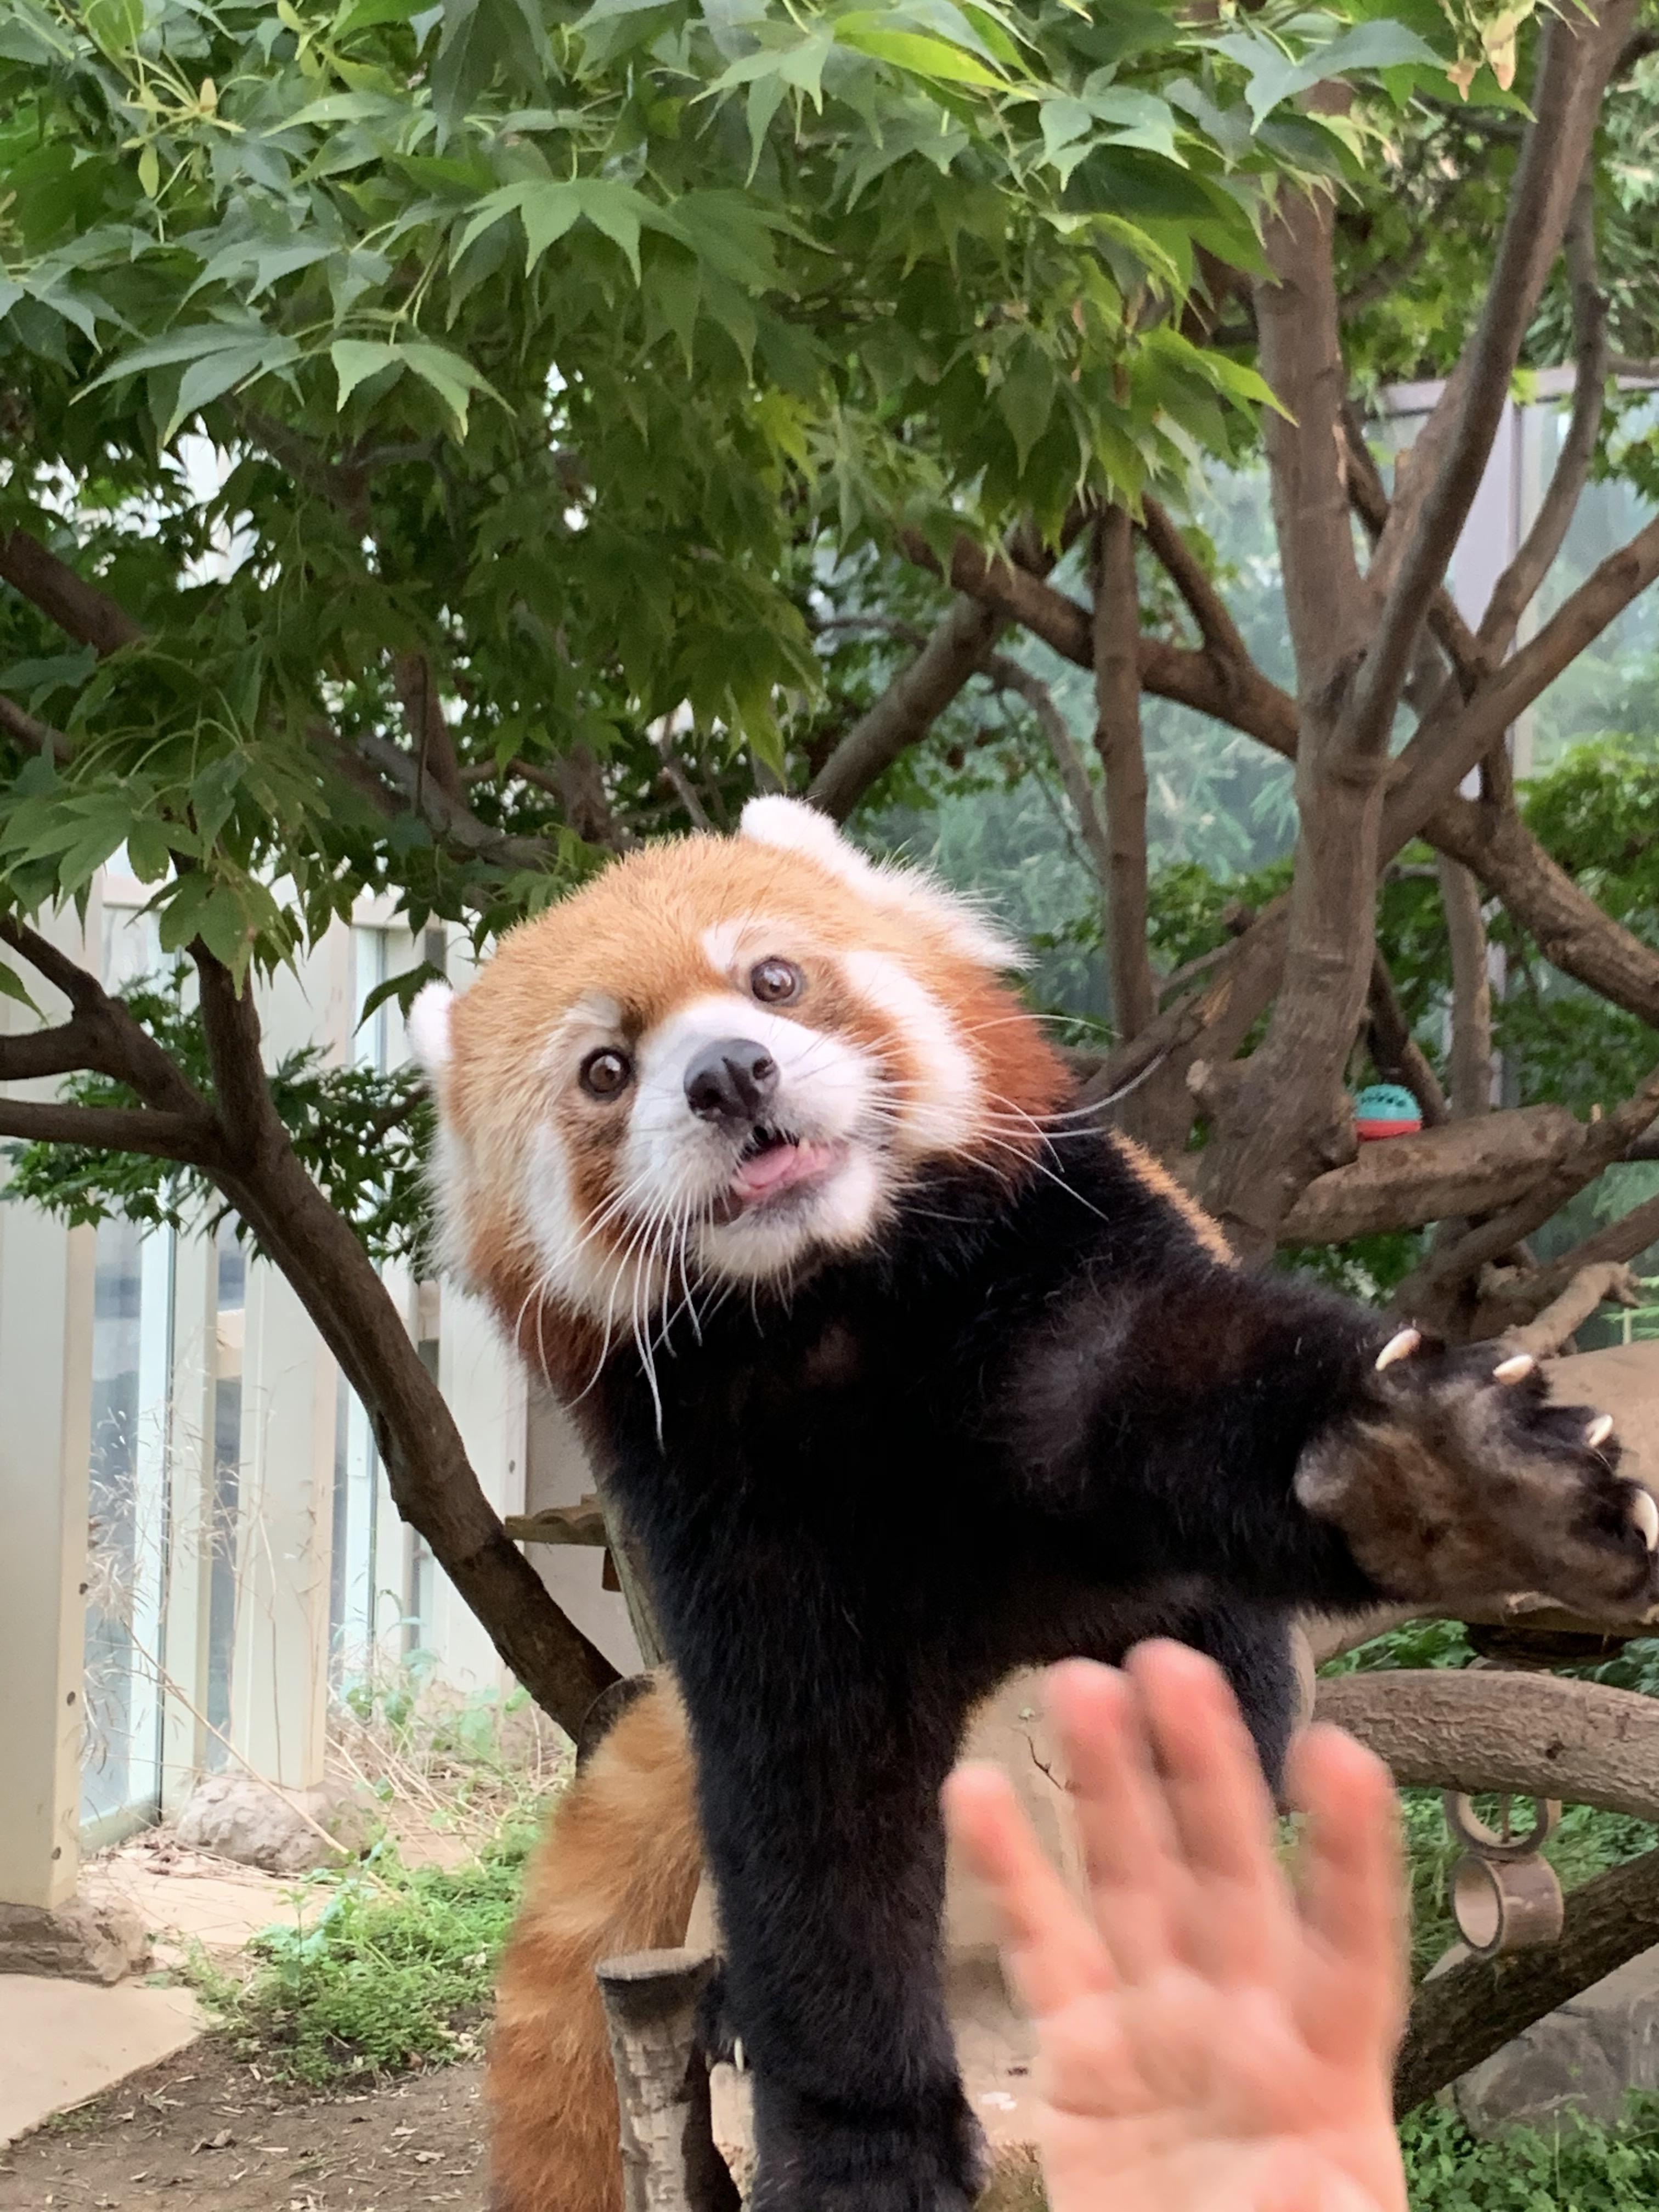redPanda: (338, 738, 1615, 1752)
